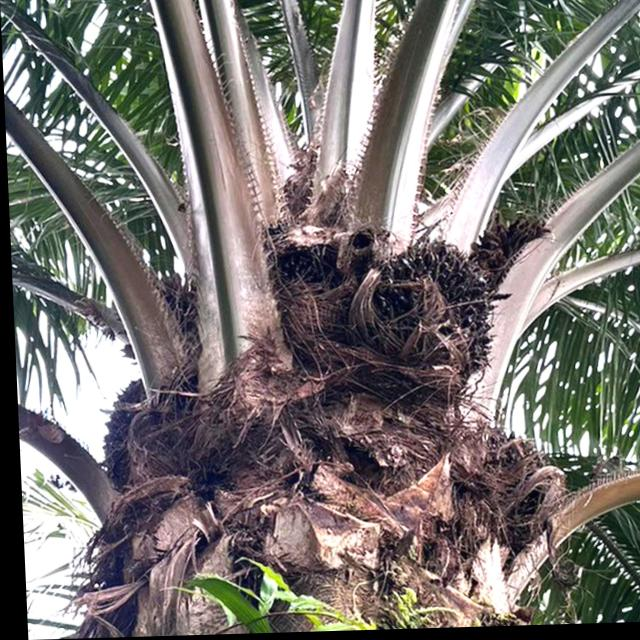unripe: (347, 232, 507, 389), (249, 212, 362, 306)
